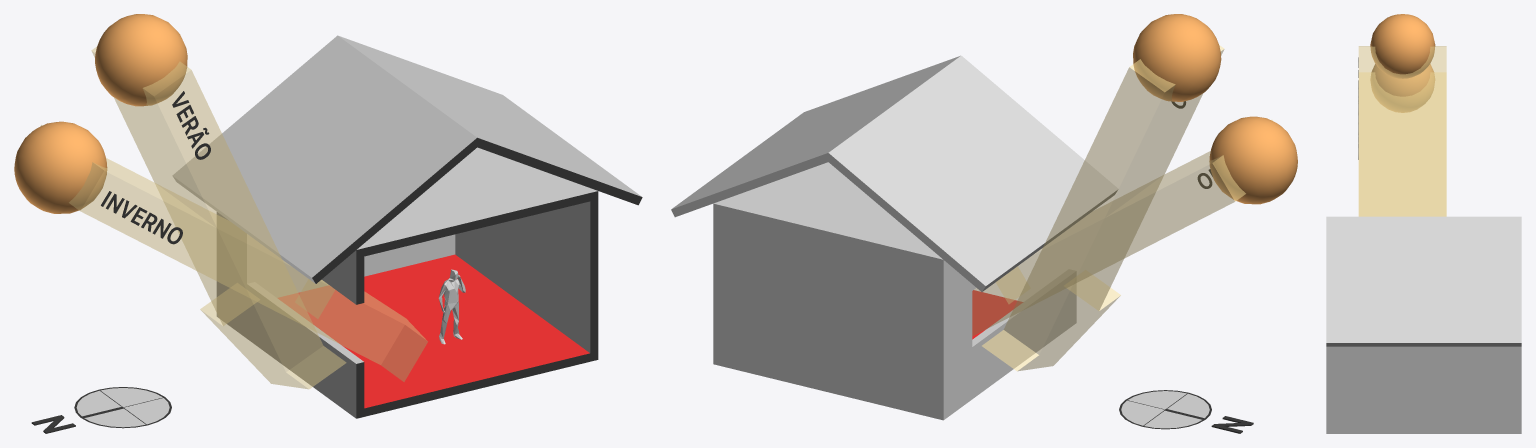
File: aquecimentosolar.glb
3 renders of one model, left to right at view 1: azimuth 30°, elevation 25°; view 2: azimuth 150°, elevation 25°; view 3: azimuth 270°, elevation 25°, orthographic. The views are drawn at different scales.
Parts seen in each view (by area): view 1: object 2, object 4, object 5, object 7, object 8, object 6, root, Guy05, INVERNO, VERÃO; view 2: object 2, object 4, object 5, object 7, object 8, object 6, root; view 3: object 4, object 2, object 5, object 7, object 6, object 8.
Part boxes in pixels (x1=…): object 2: x1=216, y1=147, x2=598, y2=418; object 4: x1=172, y1=35, x2=642, y2=283; object 5: x1=91, y1=47, x2=346, y2=389; object 7: x1=41, y1=125, x2=427, y2=381; object 8: x1=14, y1=121, x2=107, y2=213; object 6: x1=95, y1=14, x2=187, y2=106; root: x1=74, y1=387, x2=171, y2=428; Guy05: x1=438, y1=269, x2=465, y2=344; INVERNO: x1=101, y1=191, x2=182, y2=244; VERÃO: x1=172, y1=91, x2=210, y2=159; object 2: x1=713, y1=162, x2=1076, y2=420; object 4: x1=671, y1=55, x2=1118, y2=291; object 5: x1=982, y1=45, x2=1224, y2=371; object 7: x1=972, y1=120, x2=1272, y2=335; object 8: x1=1209, y1=116, x2=1297, y2=204; object 6: x1=1133, y1=14, x2=1221, y2=101; root: x1=1119, y1=390, x2=1211, y2=429; object 4: x1=1326, y1=216, x2=1521, y2=346; object 2: x1=1326, y1=346, x2=1521, y2=433; object 5: x1=1358, y1=46, x2=1446, y2=216; object 7: x1=1359, y1=72, x2=1446, y2=216; object 6: x1=1370, y1=14, x2=1435, y2=78; object 8: x1=1370, y1=64, x2=1434, y2=112.
Bounding box in the file's own units: 2.81 × 1.89 × 1.2.
